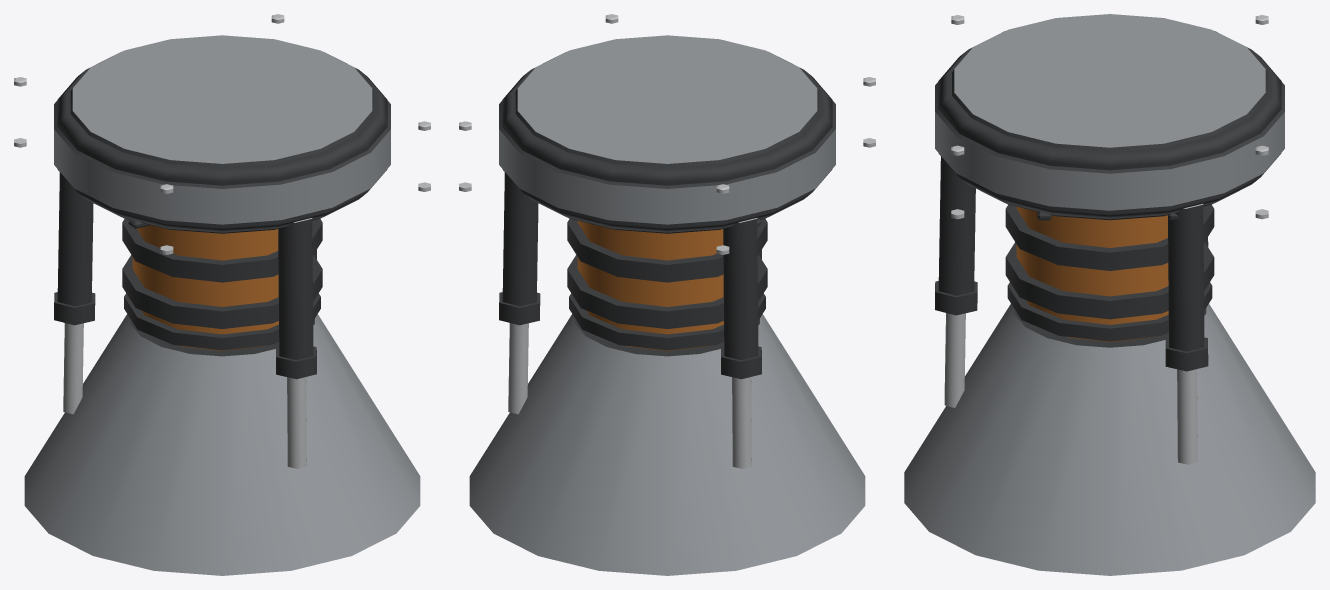
The model's file is R4X_JumpDrive.fbx.
3 views of the same model, side by side, from view 1: azimuth 30°, elevation 25°; view 2: azimuth 150°, elevation 25°; view 3: azimuth 270°, elevation 25° (orthographic). The views are drawn at different scales.
Visible parts, largest first — view 1: R4X_JumpDrive_Body; view 2: R4X_JumpDrive_Body; view 3: R4X_JumpDrive_Body.
Boxes of the visible parts, x1,y1,x2,y2 form: R4X_JumpDrive_Body: [14, 14, 430, 575]; R4X_JumpDrive_Body: [459, 14, 875, 575]; R4X_JumpDrive_Body: [904, 14, 1315, 575].
Bounding box in the file's own units: 0.47 × 0.51 × 0.4629.
